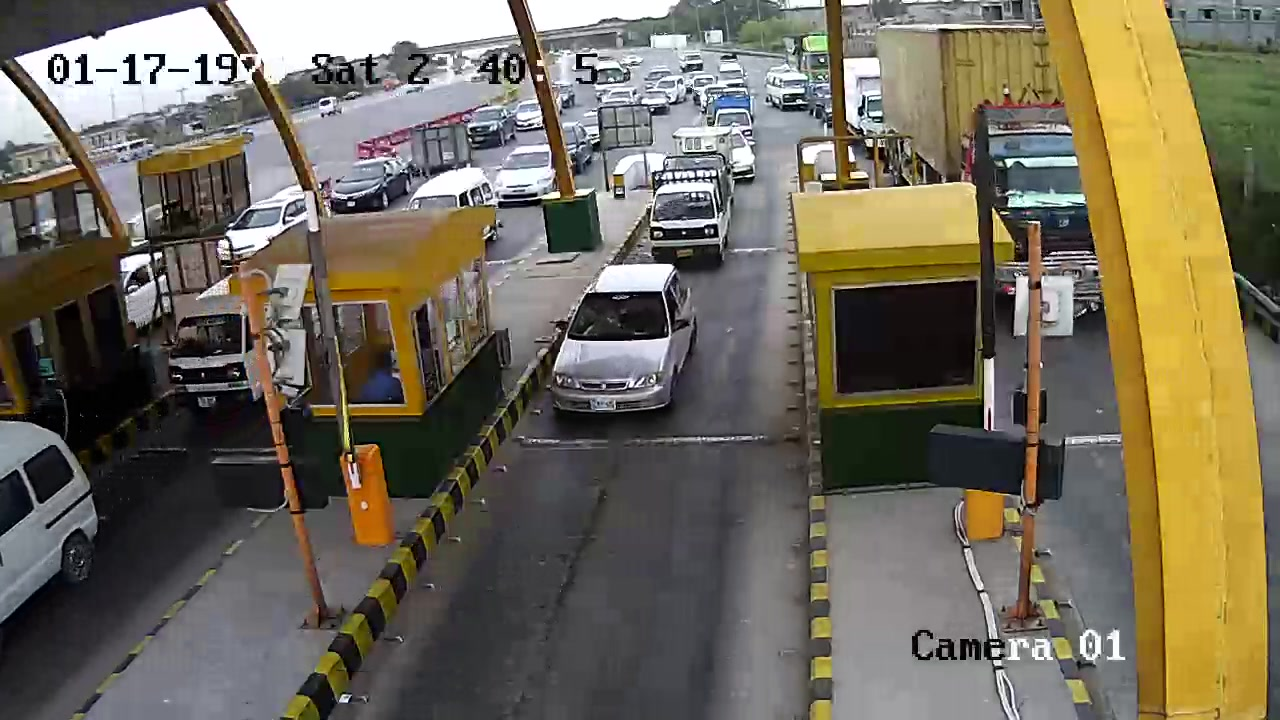F1: (542, 260, 698, 428)
